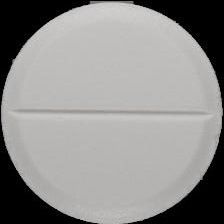49349-998: (0, 0, 224, 224)
